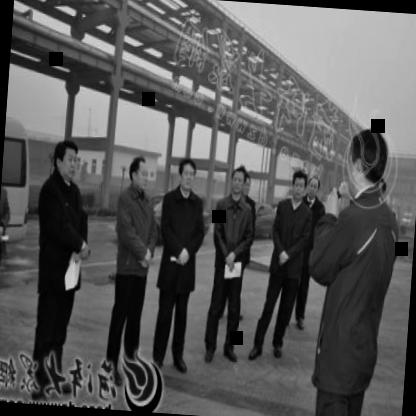head: (345, 123, 390, 204), (50, 136, 80, 184), (125, 153, 153, 194), (287, 167, 310, 207), (175, 156, 199, 194), (230, 160, 250, 198), (307, 170, 322, 202)
